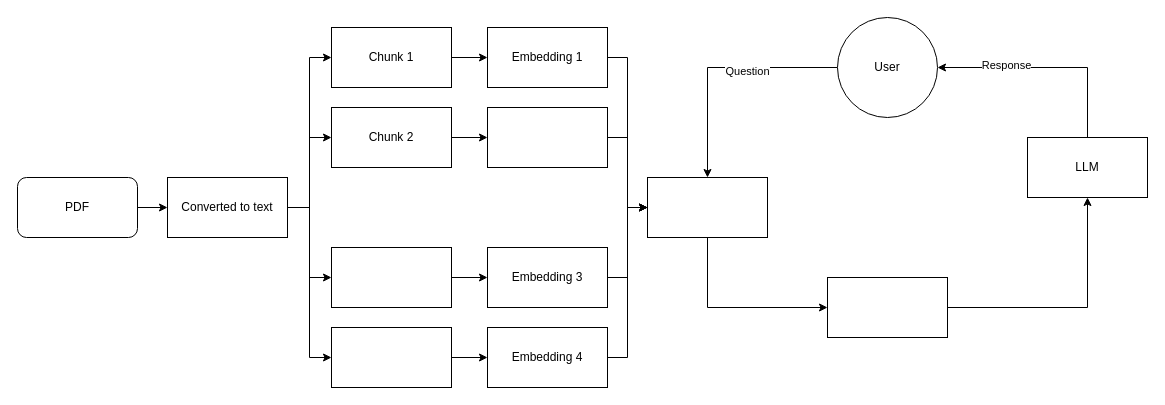
Some shapes in this 1165 by 405 pixel diagram are drawn without their labels. The box of each missing label's shape, as (x1, y1, x2, y2) in pixels:
Chunk 3: (330, 246, 452, 308)
Chunk 4: (330, 326, 452, 388)
Embedding 2: (486, 106, 608, 168)
Matched Documents: (826, 276, 948, 338)
Vector DB: (646, 176, 768, 238)
